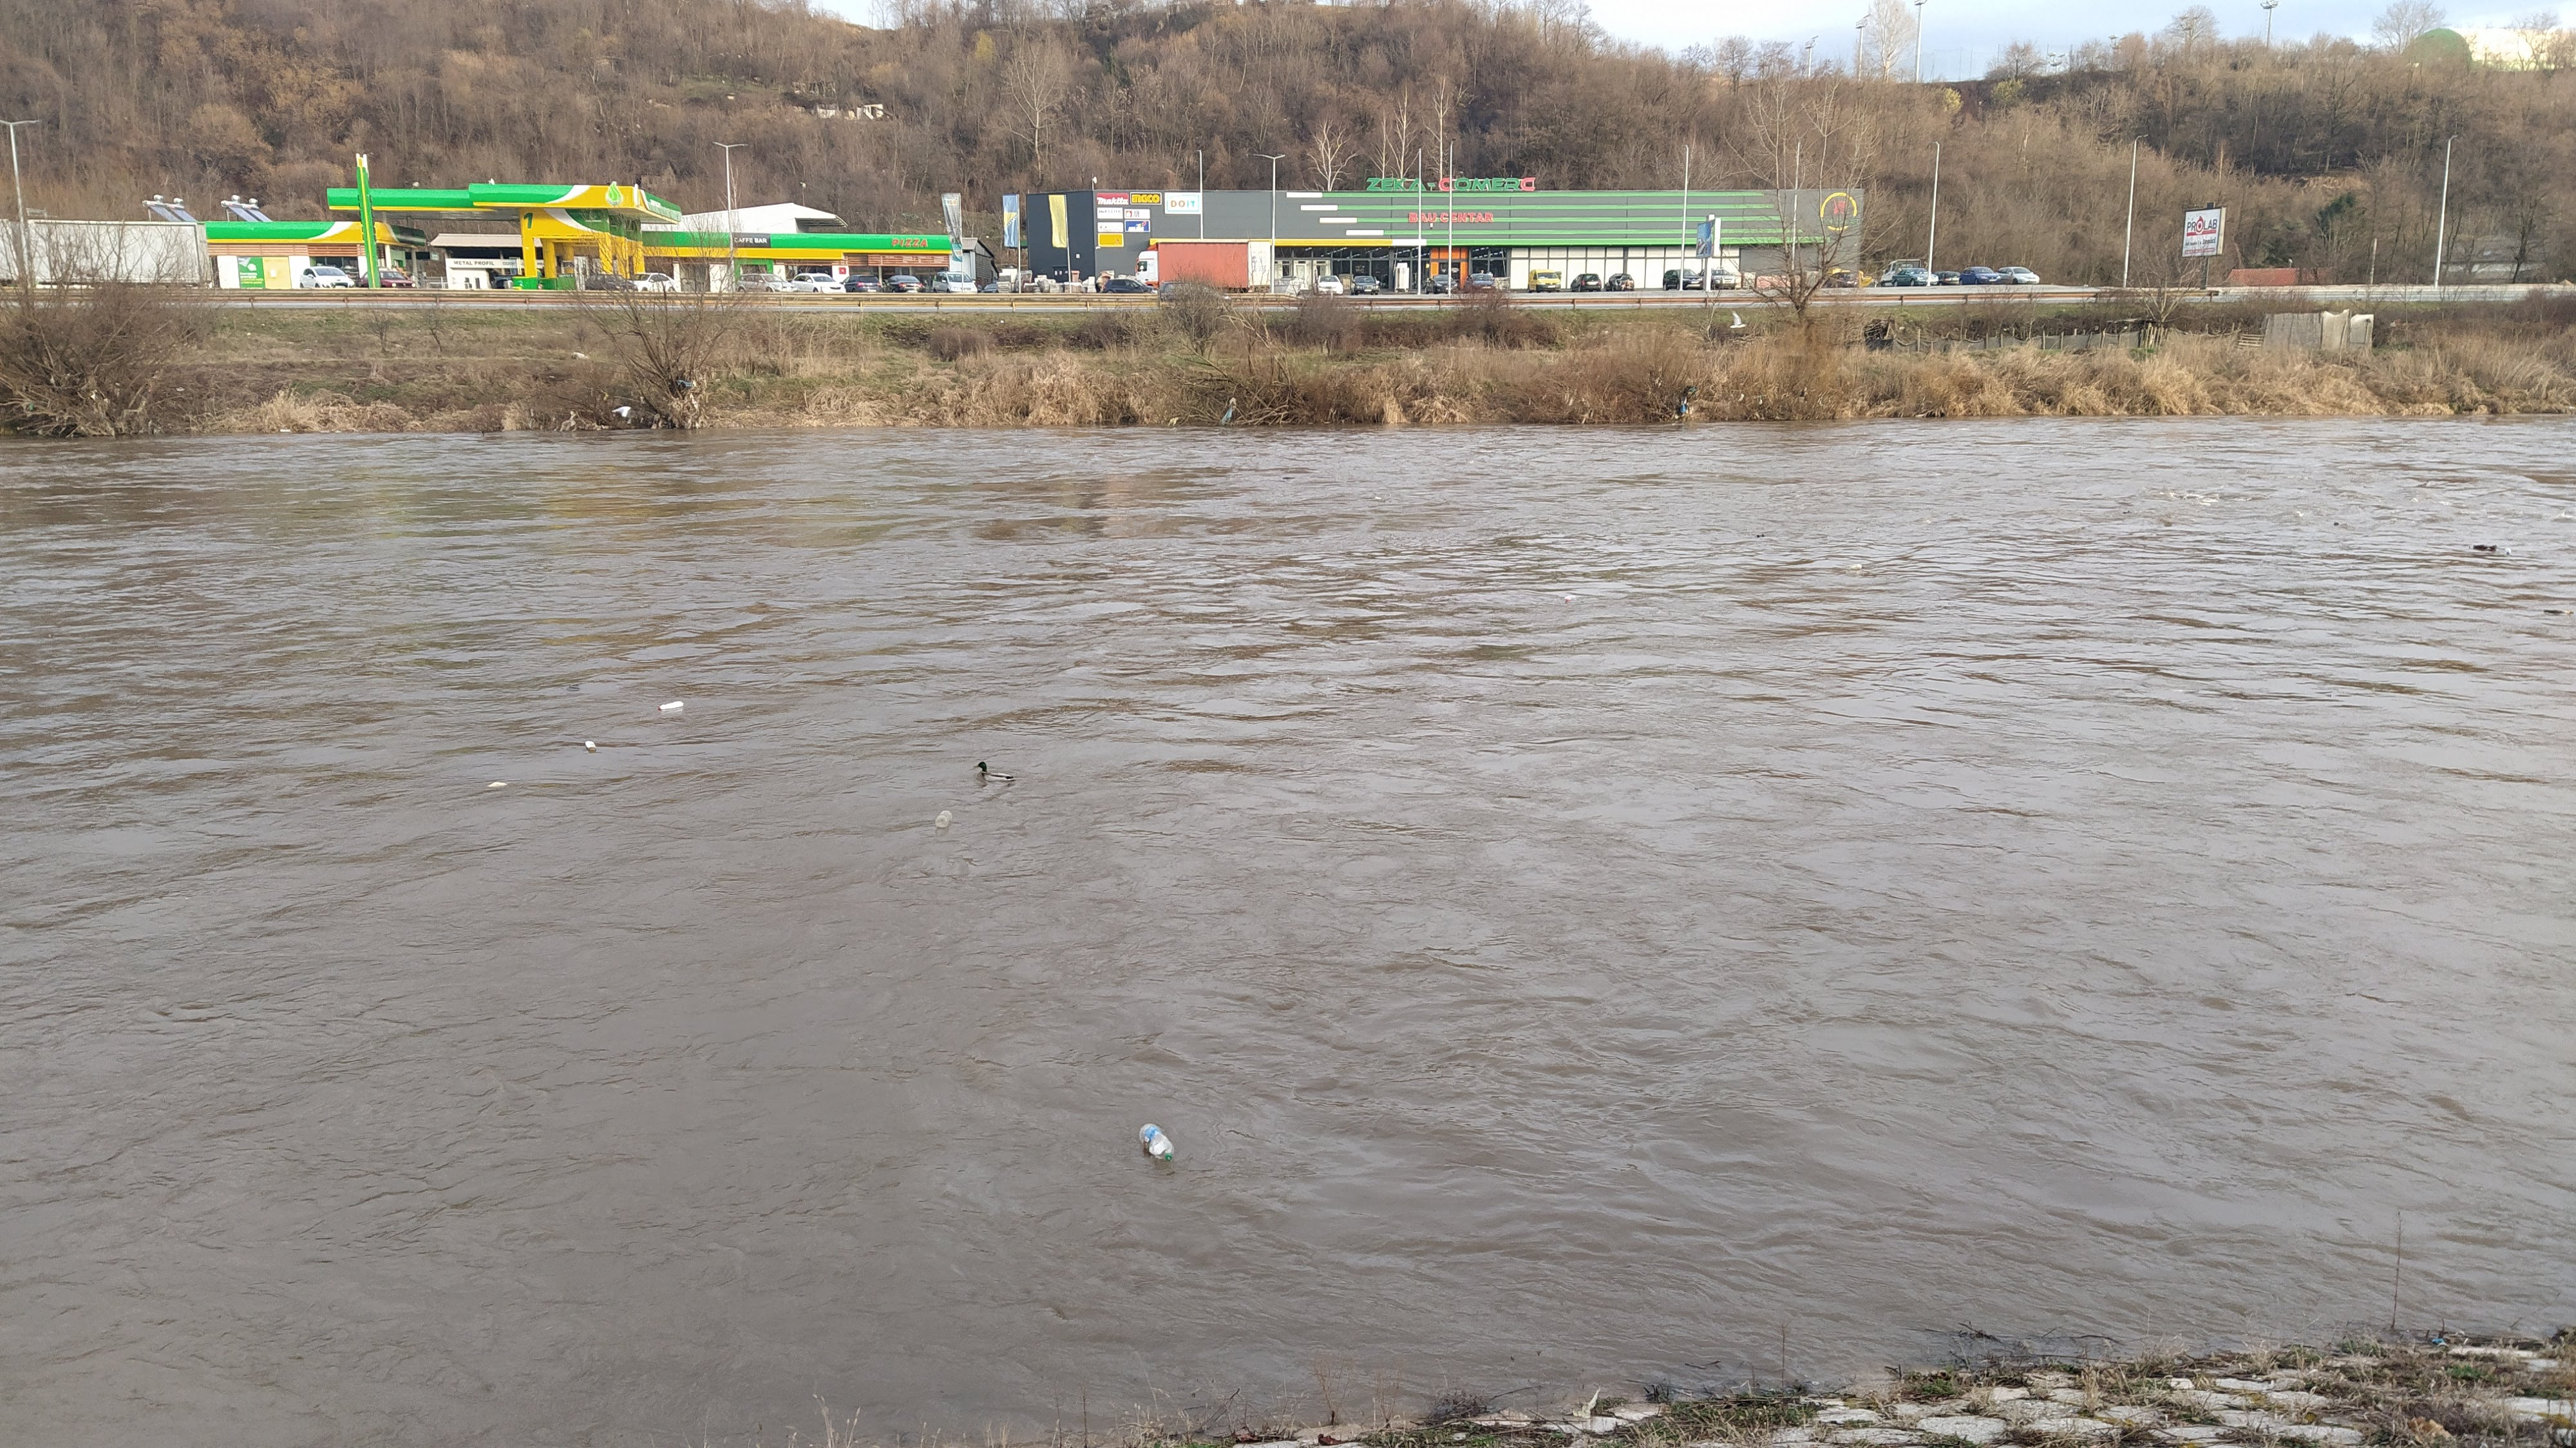Plastic Bottle: (1139, 1124, 1175, 1161), (934, 809, 952, 828), (658, 701, 683, 710), (2472, 543, 2498, 551), (586, 740, 598, 752), (1564, 593, 1575, 602), (1851, 563, 1863, 570), (2503, 547, 2511, 556), (280, 428, 290, 434)
